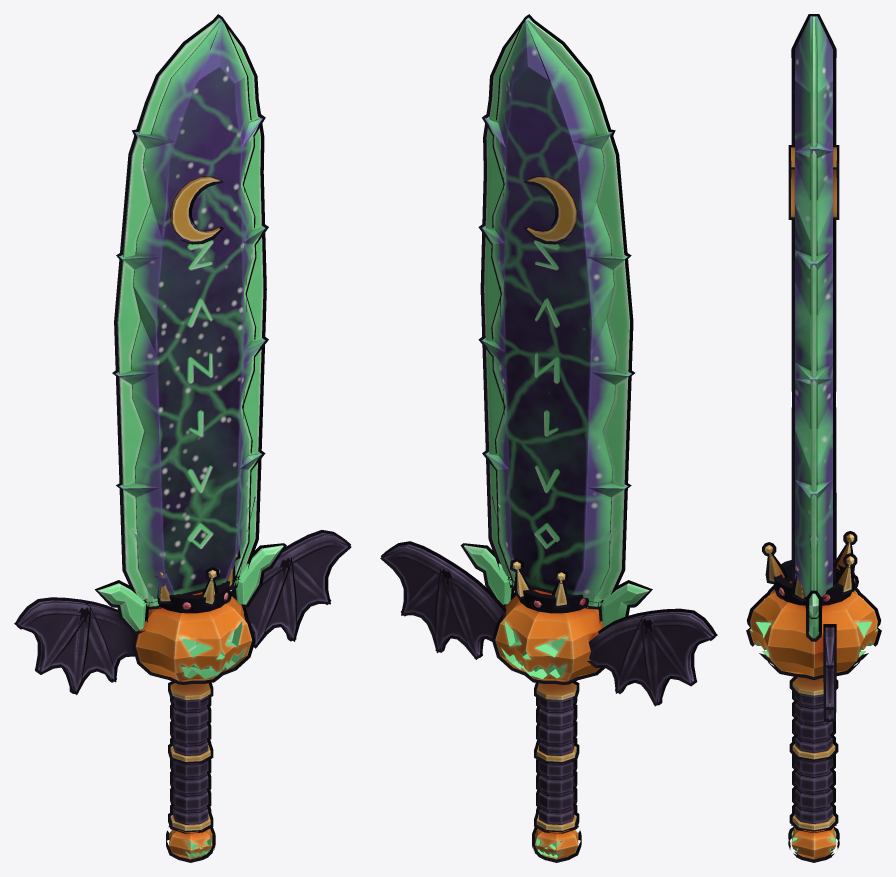
Rendered from NightmareKingBlade.fbx.
3 renders of one model, left to right at view 1: azimuth 30°, elevation 25°; view 2: azimuth 150°, elevation 25°; view 3: azimuth 270°, elevation 25°, orthographic. The views are drawn at different scales.
Visible parts, largest first — view 1: NightmareKingBlade, NightmareKingBladeSoulGlow, NightmareKingBladeOutline, NightmareKingBladeSoulCarve; view 2: NightmareKingBlade, NightmareKingBladeSoulGlow, NightmareKingBladeOutline, NightmareKingBladeSoulCarve; view 3: NightmareKingBlade, NightmareKingBladeOutline, NightmareKingBladeSoulGlow, NightmareKingBladeSoulCarve.
Part boxes in pixels (x1,y1,x2,y2): NightmareKingBlade: (18, 17, 347, 859); NightmareKingBladeSoulGlow: (98, 18, 283, 631); NightmareKingBladeOutline: (14, 14, 351, 862); NightmareKingBladeSoulCarve: (179, 621, 246, 857); NightmareKingBlade: (384, 17, 713, 859); NightmareKingBladeSoulGlow: (464, 18, 649, 627); NightmareKingBladeOutline: (380, 14, 717, 862); NightmareKingBladeSoulCarve: (501, 621, 567, 858); NightmareKingBlade: (749, 16, 878, 859); NightmareKingBladeOutline: (746, 14, 881, 862); NightmareKingBladeSoulGlow: (809, 16, 818, 638); NightmareKingBladeSoulCarve: (750, 593, 877, 852).
Bounding box in the file's own units: 248 × 593 × 85.09.
Materials: 2 (1 with a texture image).
